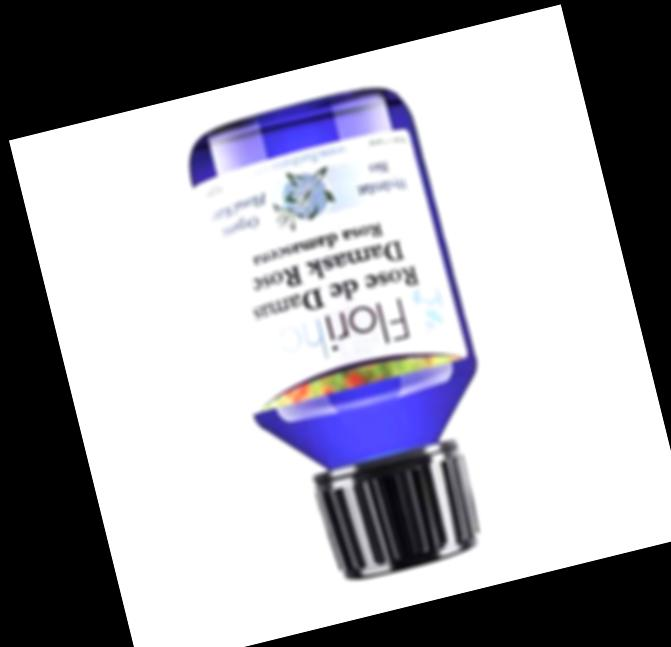cosmetic: (178, 78, 525, 599)
